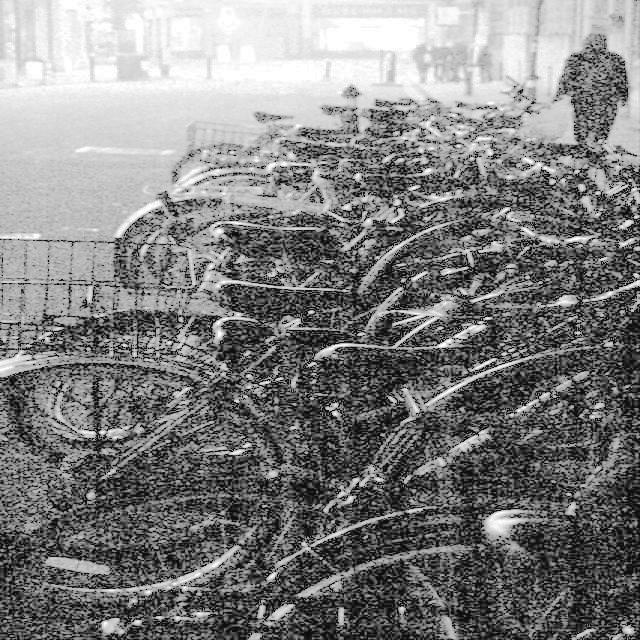Bicycle: (0, 270, 640, 557), (17, 153, 640, 382), (32, 461, 640, 640), (165, 55, 572, 263)
